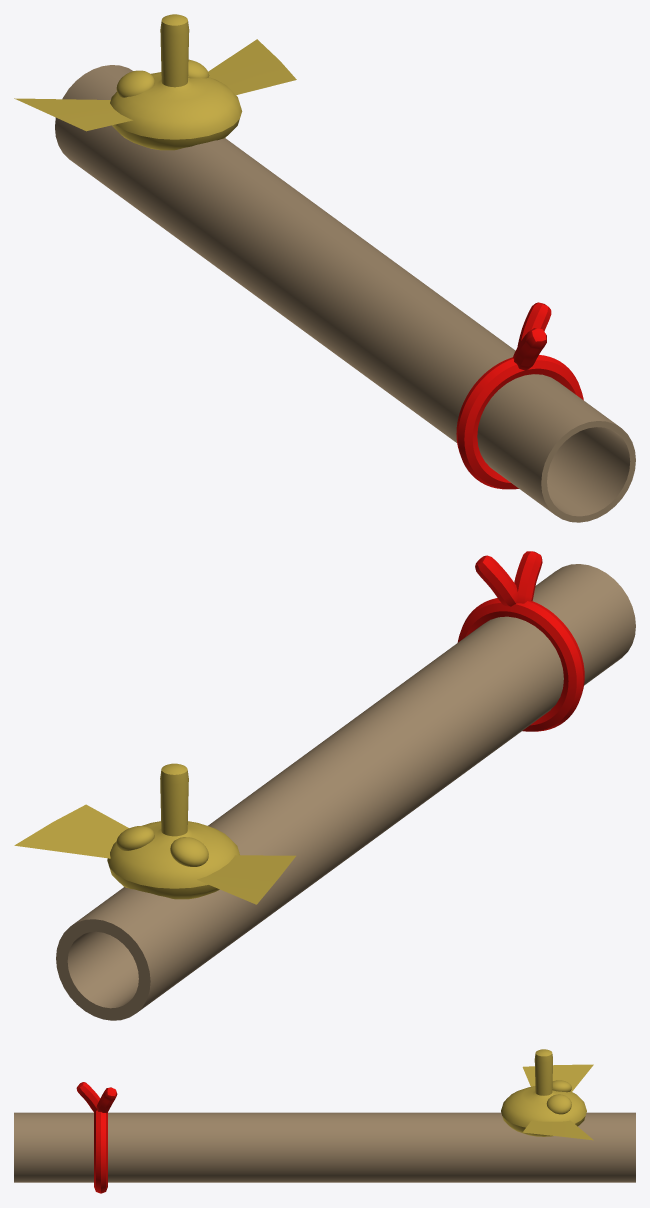
The model's file is Sumpit.fbx.
3 views of the same model, one above another, from view 1: azimuth 30°, elevation 25°; view 2: azimuth 150°, elevation 25°; view 3: azimuth 270°, elevation 25° (orthographic). The views are drawn at different scales.
Visible parts, largest first — view 1: Sumpit; view 2: Sumpit; view 3: Sumpit.
Boxes of the visible parts, x1,y1,x2,y2 form: Sumpit: (14, 14, 635, 522); Sumpit: (14, 551, 635, 1020); Sumpit: (14, 1049, 635, 1193).
Bounding box in the file's own units: 19.56 × 16.66 × 67.75.
